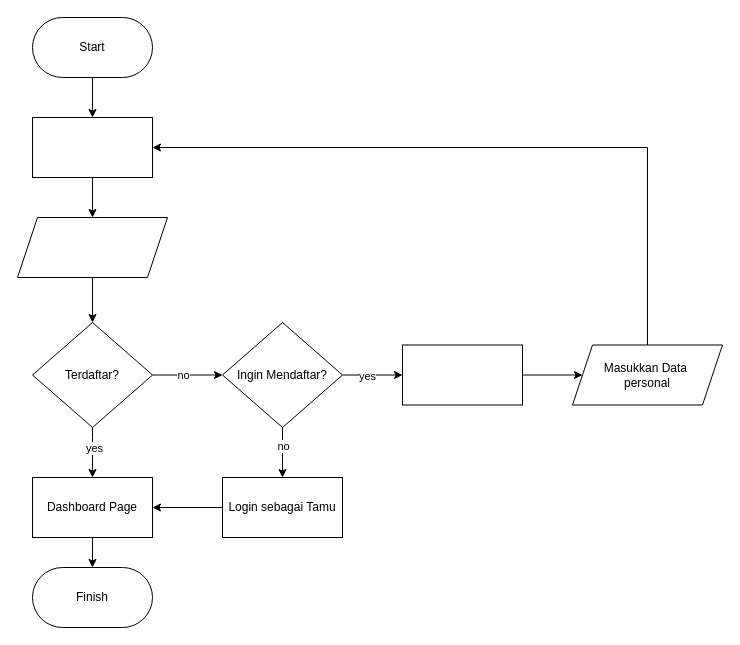
Some shapes in this 740 by 645 pixel diagram are drawn without their labels. Each missing label, with the box of its shape:
Login Page: (32, 116, 152, 178)
Masukkan Username & Password: (16, 216, 168, 278)
Sign Up Page: (402, 344, 522, 405)
